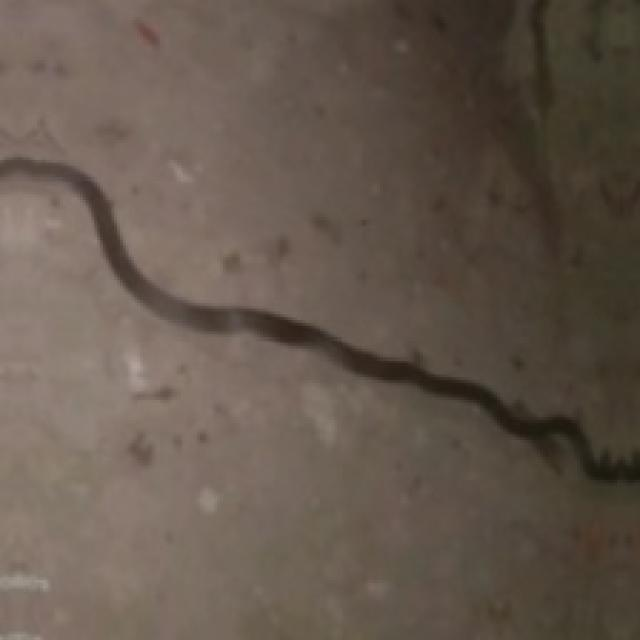king cobra: (0, 157, 637, 480)
